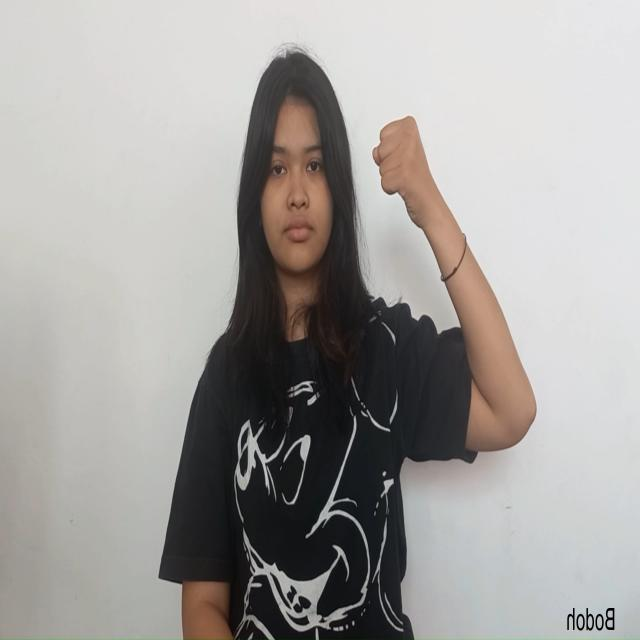Bodoh -BISINDO-: (370, 110, 432, 225)
